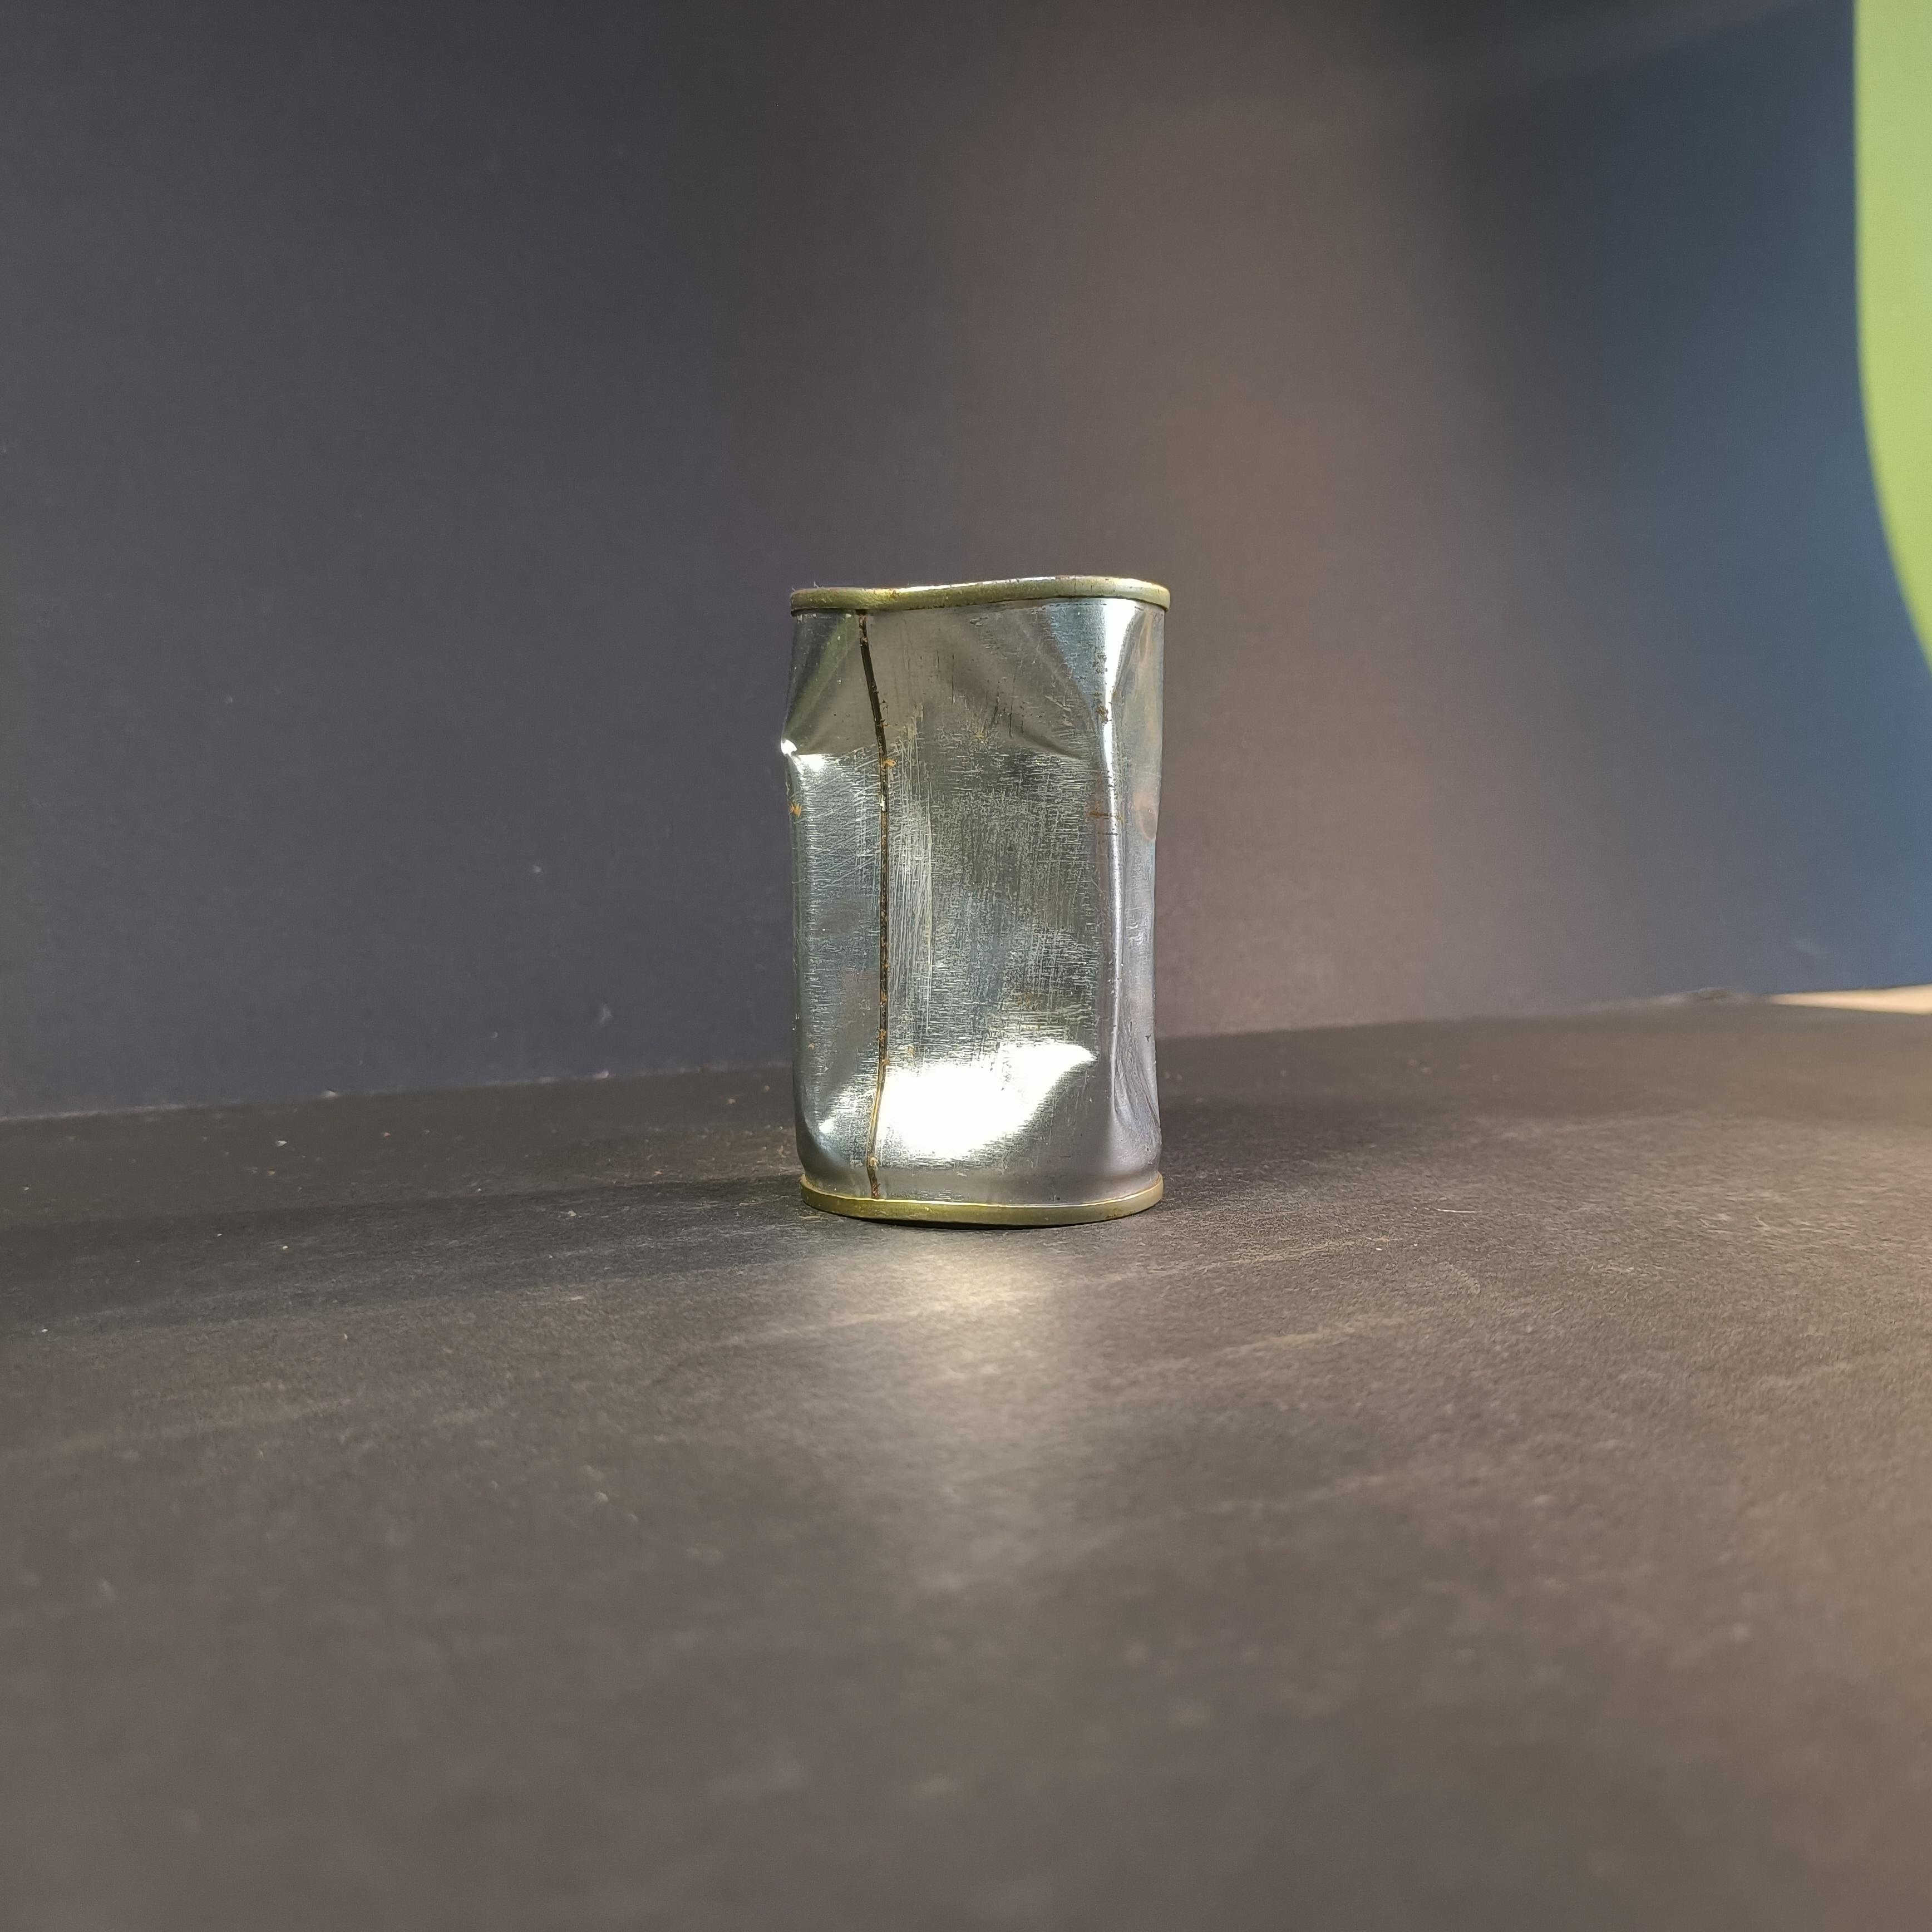Dented: (752, 563, 1210, 1269)
